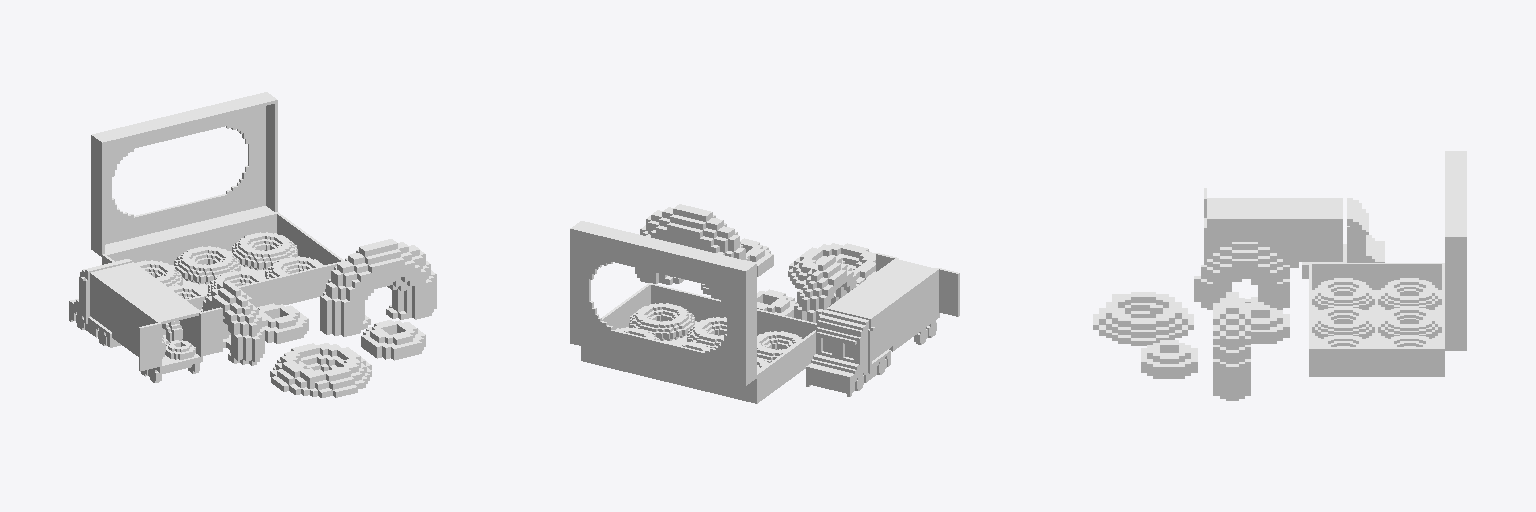
Rendered from donuts-1.obj.
3 renders of one model, left to right at view 1: azimuth 30°, elevation 25°; view 2: azimuth 150°, elevation 25°; view 3: azimuth 270°, elevation 25°, orthographic.
Visible parts, largest first — view 1: donuts-1; view 2: donuts-1; view 3: donuts-1.
Part boxes in pixels (bbox=[...]): donuts-1: bbox=[69, 92, 436, 397]; donuts-1: bbox=[570, 204, 959, 403]; donuts-1: bbox=[1093, 151, 1466, 400].
Bounding box in the file's own units: 112 × 49 × 118.